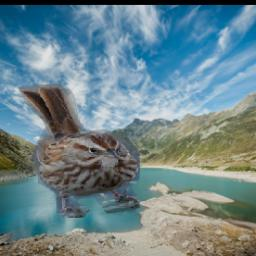Sparrow: (18, 84, 140, 218)
